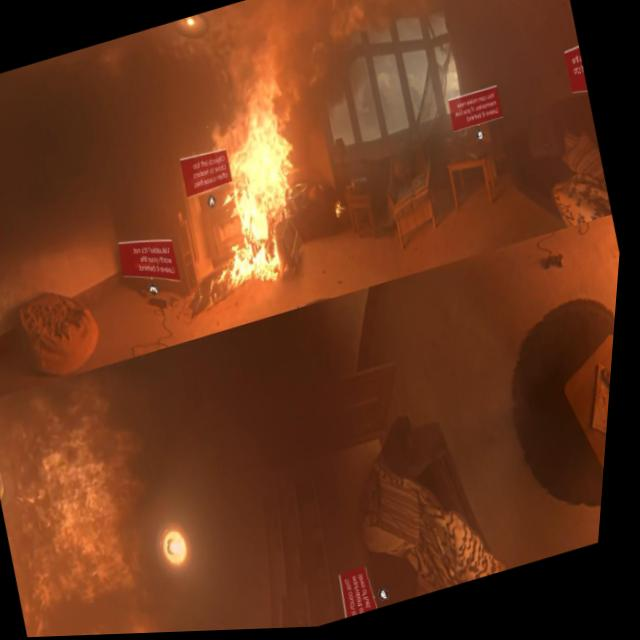fire: (171, 70, 337, 301)
